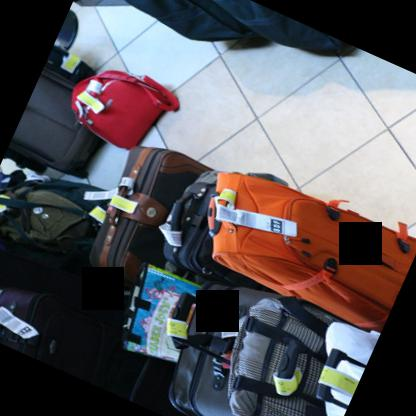backpack: (209, 166, 416, 330), (126, 0, 254, 39)
handbag: (122, 259, 202, 361)
suitcase: (207, 169, 416, 331), (94, 143, 206, 272), (165, 171, 281, 293), (172, 280, 273, 416), (225, 294, 336, 416), (8, 43, 106, 180), (0, 283, 107, 387), (74, 70, 180, 151), (126, 0, 269, 40)
